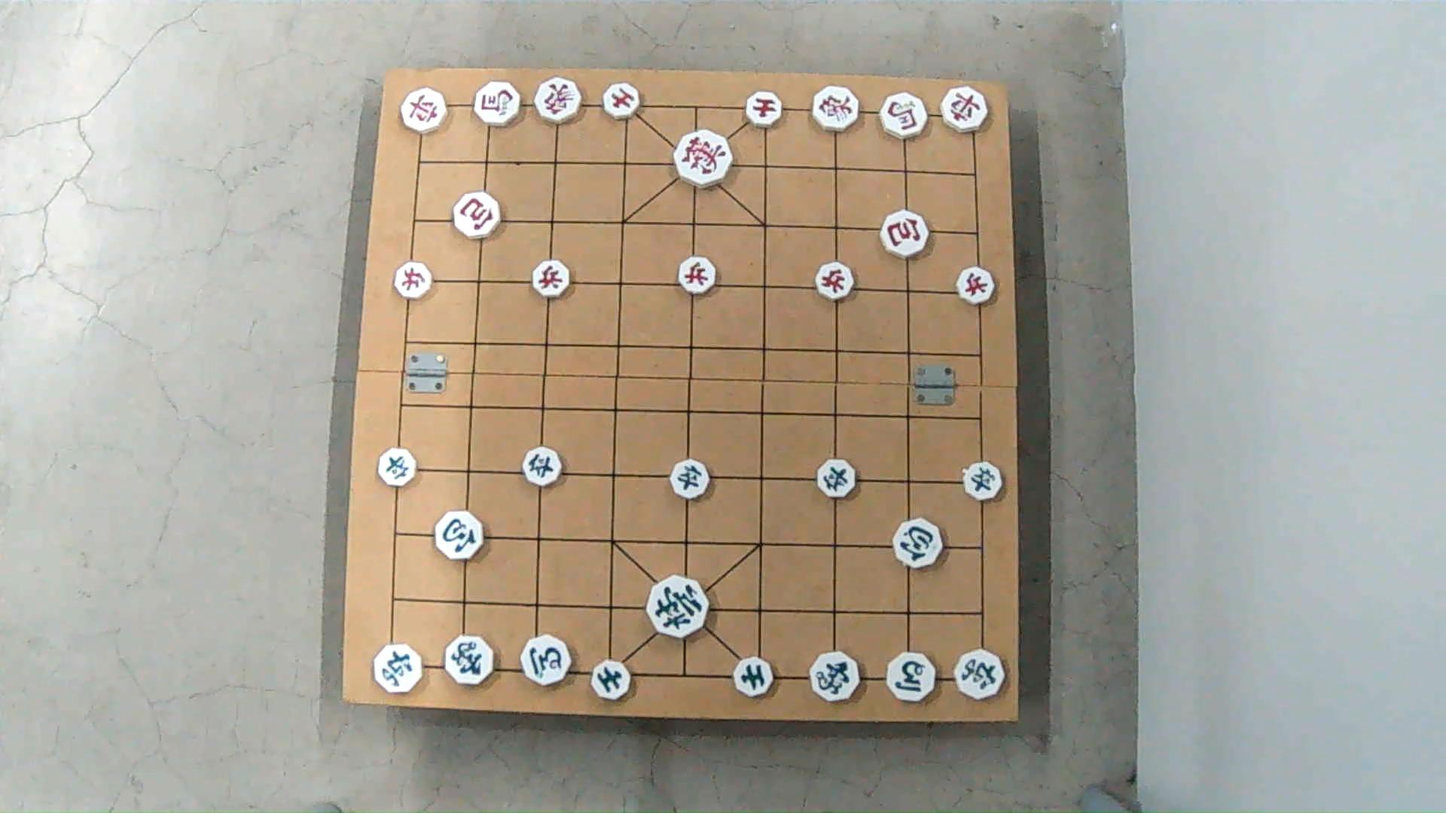cha_green: (952, 648, 1006, 701), (374, 646, 424, 693)
cha_red: (940, 87, 989, 130), (400, 90, 447, 133)
jol_green: (670, 461, 711, 499), (816, 460, 858, 497), (524, 447, 564, 485), (962, 464, 1003, 501), (378, 449, 417, 486)
jol_red: (812, 263, 853, 300), (677, 258, 717, 294), (532, 261, 572, 297), (954, 267, 993, 303), (393, 263, 432, 298)
ma_green: (522, 635, 571, 687), (886, 654, 937, 702)
ma_red: (471, 82, 522, 127), (878, 93, 927, 139)
po_green: (432, 513, 483, 559), (891, 521, 941, 567)
po_red: (453, 193, 502, 238), (880, 212, 928, 256)
sa_green: (733, 657, 776, 696), (593, 659, 630, 702)
sa_red: (604, 84, 642, 119), (743, 93, 782, 126)
sang_green: (809, 649, 863, 704), (444, 633, 497, 686)
sang_red: (810, 87, 859, 130), (534, 80, 581, 121)
wang_green: (645, 577, 707, 636)
wang_red: (671, 132, 732, 184)
